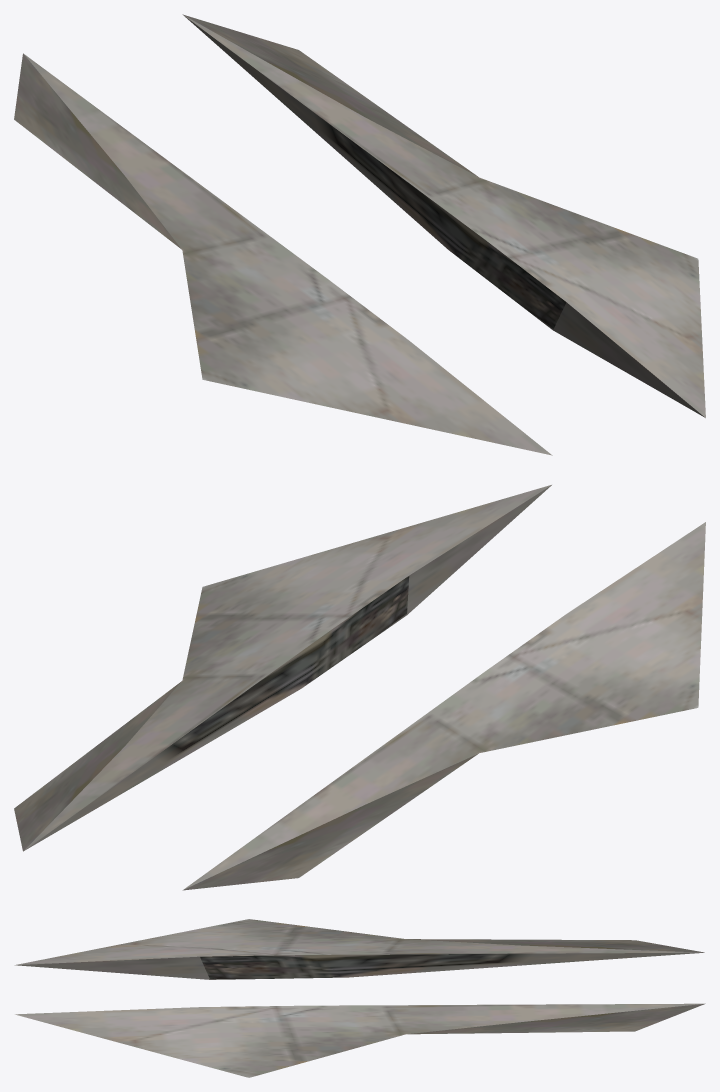
File: hutt_fighter_light_struct_s02_l3.fbx
The picture shows the model from 3 angles, top to bottom: view 1: azimuth 30°, elevation 25°; view 2: azimuth 150°, elevation 25°; view 3: azimuth 270°, elevation 25°; orthographic projection. The views are drawn at different scales.
Visible parts, largest first — view 1: mesh_node; view 2: mesh_node; view 3: mesh_node.
Boxes of the visible parts, x1,y1,x2,y2 form: mesh_node: [14, 14, 705, 455]; mesh_node: [14, 485, 705, 890]; mesh_node: [14, 919, 705, 1077].
Bounding box in the file's own units: 12.08 × 0.8899 × 22.22.
